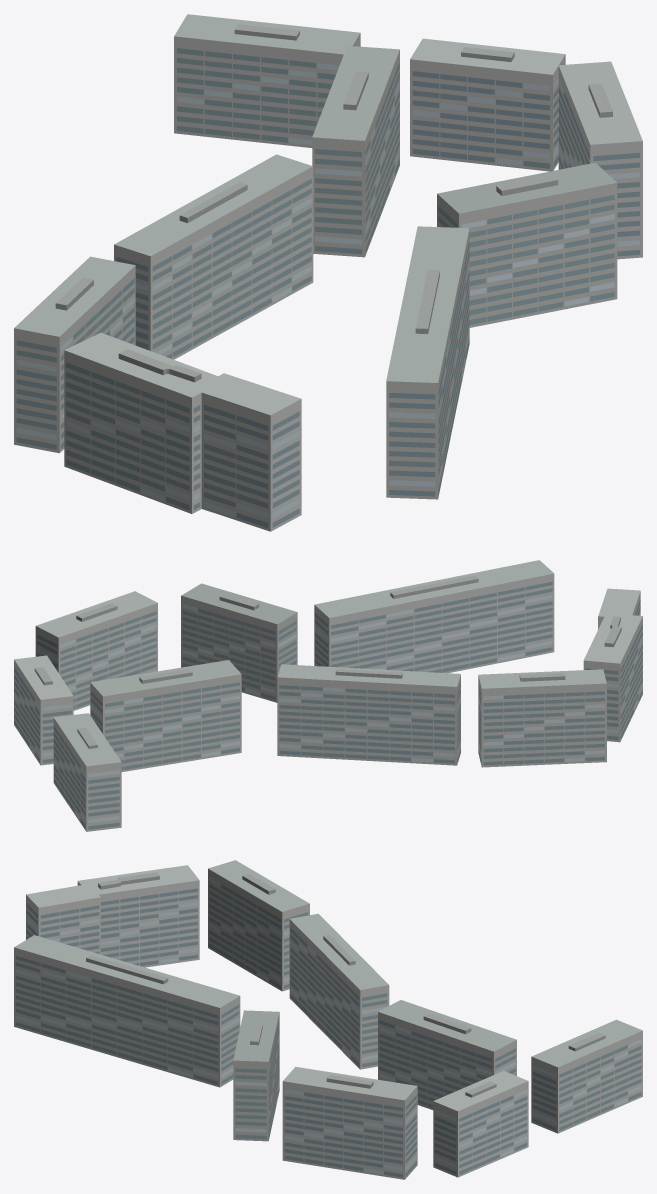
The model's file is apt-a14086001.glb.
3 renders of one model, top to bottom at view 1: azimuth 30°, elevation 25°; view 2: azimuth 150°, elevation 25°; view 3: azimuth 270°, elevation 25°, orthographic. The views are drawn at different scales.
Visible parts, largest first — view 1: apt-a14086001; view 2: apt-a14086001; view 3: apt-a14086001.
Part boxes in pixels (left/top/right/bottom): apt-a14086001: left=14, top=14, right=642, bottom=531; apt-a14086001: left=14, top=560, right=642, bottom=831; apt-a14086001: left=14, top=860, right=642, bottom=1179.
Bounding box in the file's own units: 237 × 38.25 × 262.
